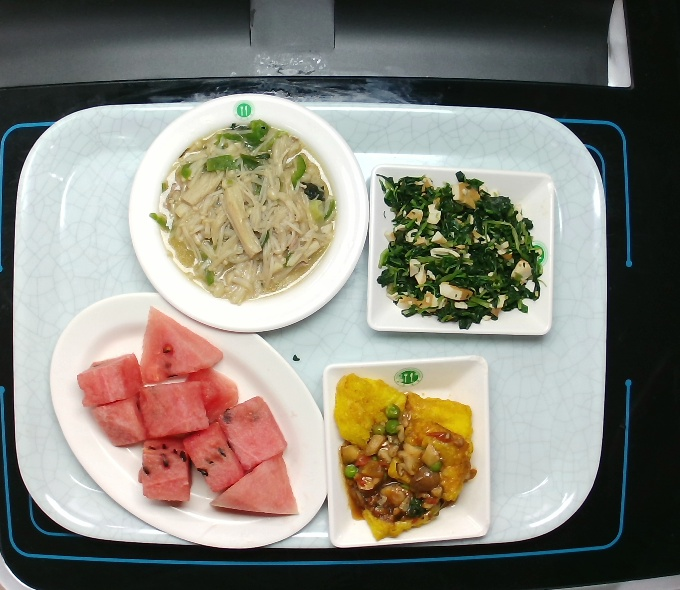wcq-CuiPiDouFu: (331, 370, 477, 544)
wcq-JinZhenGu: (154, 119, 337, 306)
wcq-MaLanTouChaoDouGan: (375, 171, 546, 326)
wcq-XiGua: (76, 304, 299, 522)
